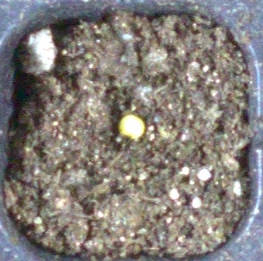pepper seed: (42, 43, 190, 183)
